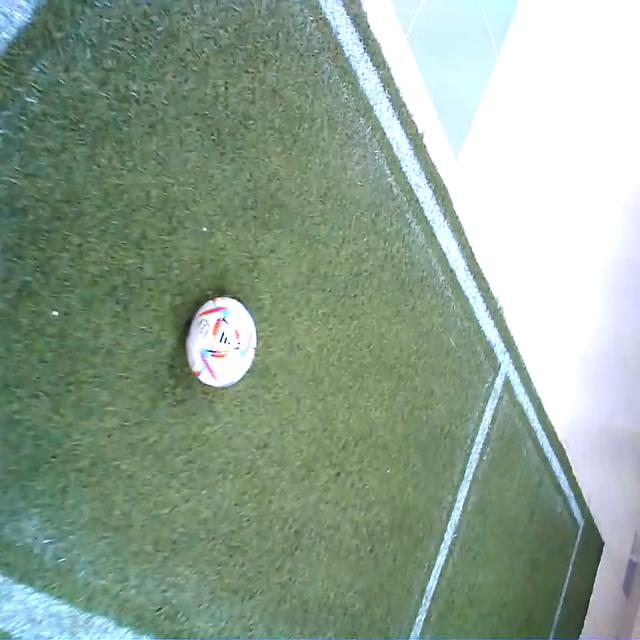ball: (188, 293, 258, 388)
